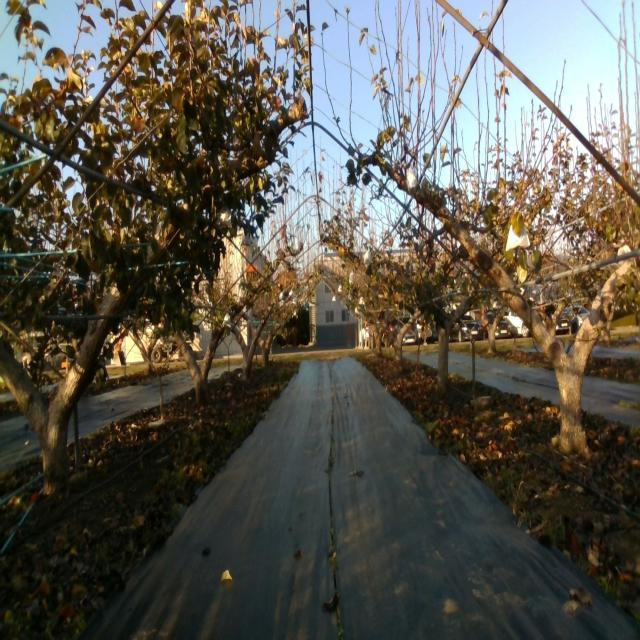pearbags: (506, 224, 531, 253), (217, 200, 232, 230), (405, 168, 417, 195)
